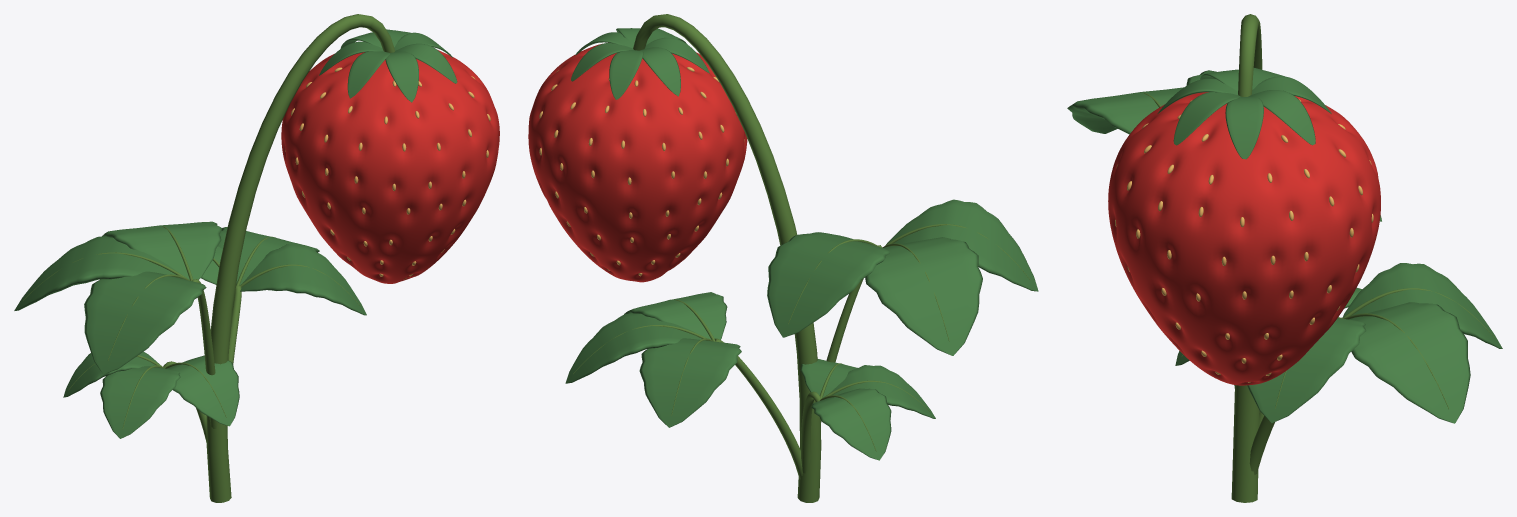
File: crossing_dimpled_strawberry.glb
3 views of the same model, side by side, from view 1: azimuth 30°, elevation 25°; view 2: azimuth 150°, elevation 25°; view 3: azimuth 270°, elevation 25° (orthographic). The views are drawn at different scales.
Visible parts, largest first — view 1: SM_Crossing_DimpledStrawberry; view 2: SM_Crossing_DimpledStrawberry; view 3: SM_Crossing_DimpledStrawberry.
Boxes of the visible parts, bbox=[...] form: SM_Crossing_DimpledStrawberry: bbox=[14, 14, 499, 502]; SM_Crossing_DimpledStrawberry: bbox=[528, 14, 1038, 502]; SM_Crossing_DimpledStrawberry: bbox=[1067, 14, 1502, 502].
Bounding box in the file's own units: 0.7955 × 0.7703 × 0.5421.
